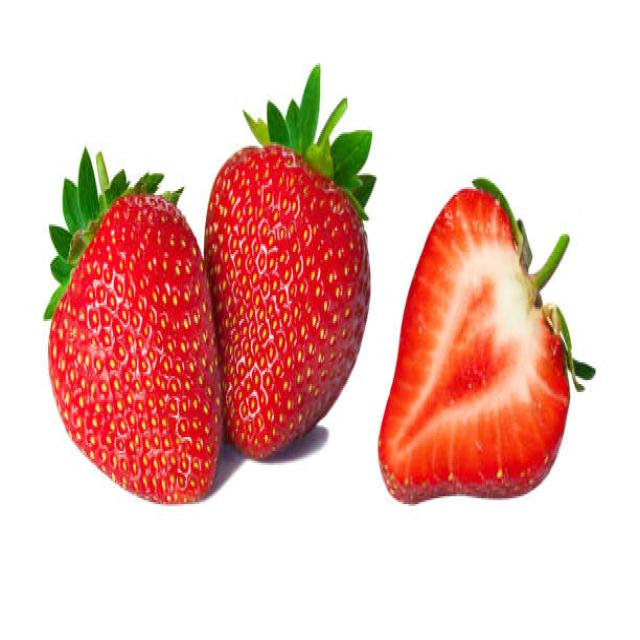Healthy Fruit: (377, 185, 571, 506), (48, 192, 223, 501), (204, 148, 371, 458)
